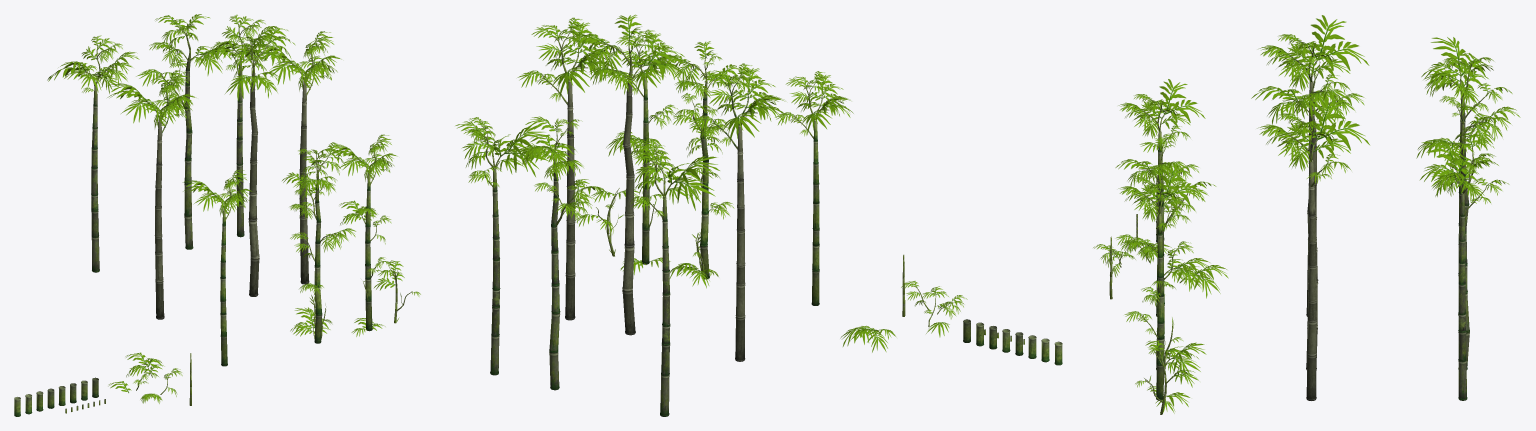
Rendered from bambou.glb.
3 views of the same model, side by side, from view 1: azimuth 30°, elevation 25°; view 2: azimuth 150°, elevation 25°; view 3: azimuth 270°, elevation 25° (orthographic). The views are drawn at different scales.
Visible parts, largest first — view 1: Object_5, Object_56, Object_34, Object_44, Object_4; view 2: Object_5, Object_56, Object_34, Object_44, Object_4; view 3: Object_5, Object_56, Object_4, Object_44, Object_34.
Part boxes in pixels (x1=…): Object_5: x1=47, y1=14, x2=420, y2=403; Object_56: x1=154, y1=79, x2=309, y2=319; Object_34: x1=14, y1=79, x2=372, y2=416; Object_44: x1=91, y1=60, x2=244, y2=272; Object_4: x1=65, y1=24, x2=412, y2=413; Object_5: x1=455, y1=14, x2=967, y2=352; Object_56: x1=565, y1=79, x2=745, y2=361; Object_34: x1=641, y1=74, x2=1062, y2=365; Object_44: x1=490, y1=168, x2=670, y2=416; Object_4: x1=482, y1=28, x2=1024, y2=344; Object_5: x1=1093, y1=15, x2=1520, y2=413; Object_56: x1=1306, y1=80, x2=1318, y2=400; Object_4: x1=1109, y1=59, x2=1489, y2=414; Object_44: x1=1458, y1=96, x2=1469, y2=400; Object_34: x1=1155, y1=39, x2=1327, y2=400.
Bounding box in the file's own units: 72.67 × 47.04 × 56.86.
5 materials, 5 textured.
